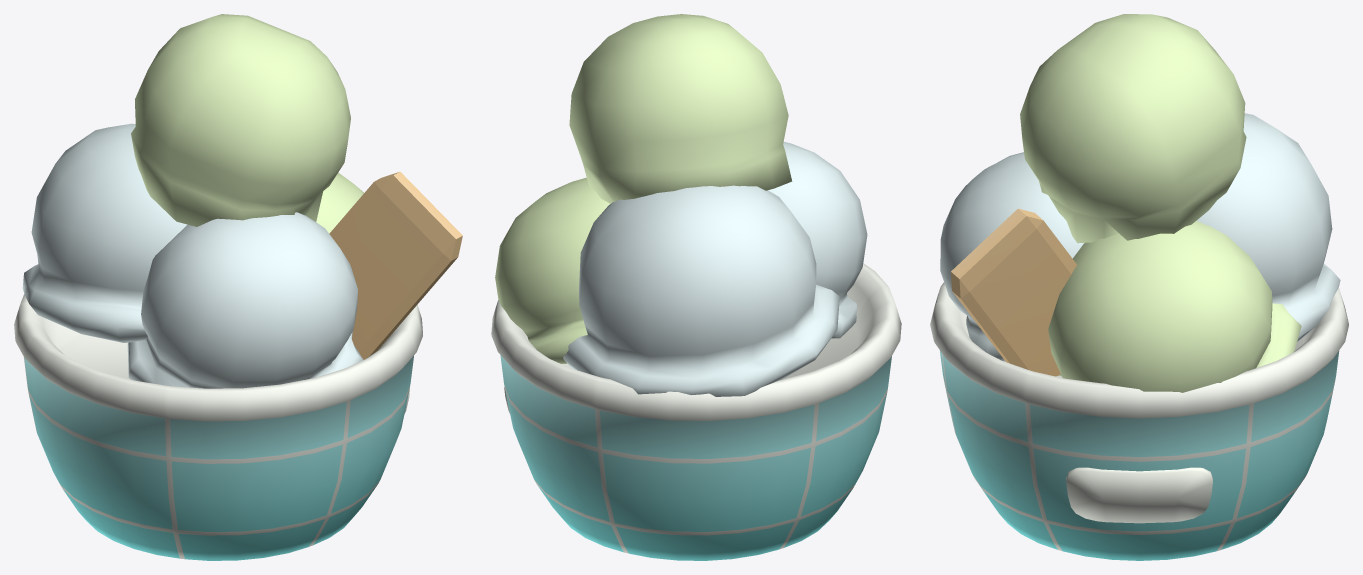
The model's file is IceCream_0001_0018.fbx.
3 renders of one model, left to right at view 1: azimuth 30°, elevation 25°; view 2: azimuth 150°, elevation 25°; view 3: azimuth 270°, elevation 25°, orthographic. The views are drawn at different scales.
Visible parts, largest first — view 1: Ice_0001_0018; view 2: Ice_0001_0018; view 3: Ice_0001_0018.
Part boxes in pixels (left/top/right/bottom): Ice_0001_0018: left=14, top=14, right=462, bottom=560; Ice_0001_0018: left=491, top=14, right=901, bottom=560; Ice_0001_0018: left=930, top=14, right=1348, bottom=560.
Bounding box in the file's own units: 0.1324 × 0.1687 × 0.1323.
Materials: 1 (1 with a texture image).
